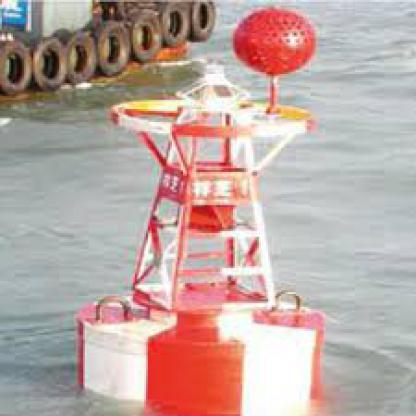buoy: (65, 6, 338, 414)
